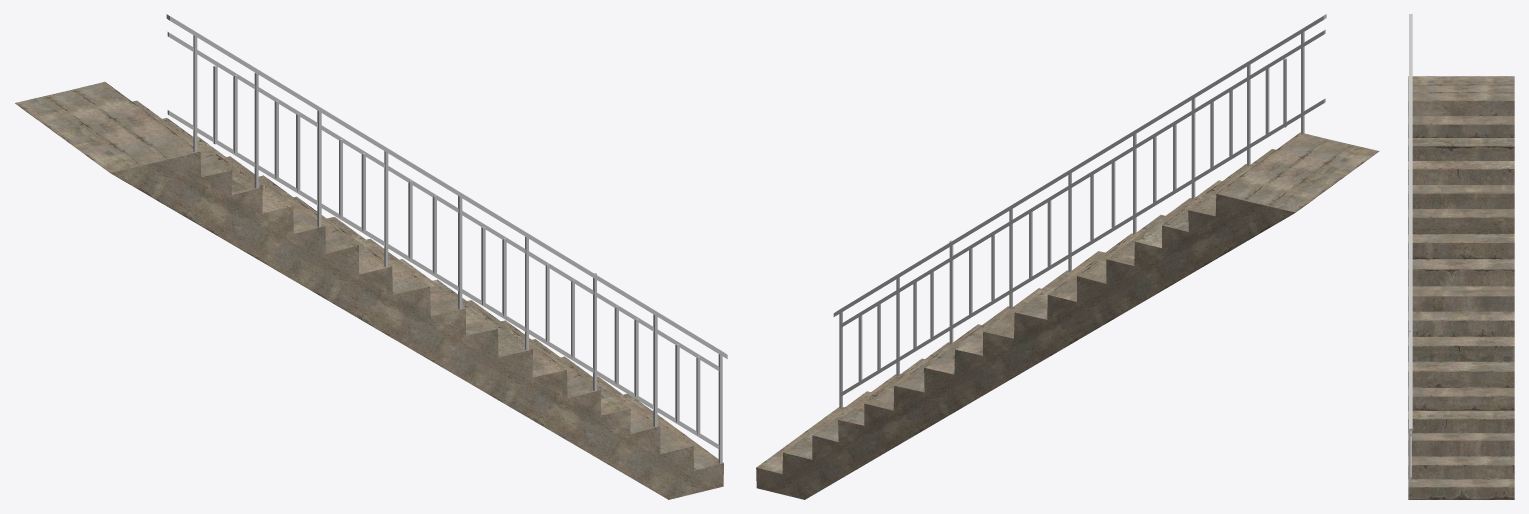
Rendered from OldHouseStaircaseExternal1.obj.
3 renders of one model, left to right at view 1: azimuth 30°, elevation 25°; view 2: azimuth 150°, elevation 25°; view 3: azimuth 270°, elevation 25°, orthographic. The views are drawn at different scales.
Visible parts, largest first — view 1: Line02, Box03, Box05, Box04; view 2: Line02, Box03, Box04, Box05; view 3: Line02, Box03.
Part boxes in pixels (x1,y1,x2,y2): Line02: (15,81,723,499); Box03: (166,14,727,358); Box05: (167,110,719,449); Box04: (167,32,719,370); Line02: (756,132,1379,499); Box03: (833,14,1326,316); Box04: (839,29,1325,328); Box05: (839,98,1325,396); Line02: (1408,76,1514,499); Box03: (1409,14,1412,431).
Bounding box in the file's own units: 4.67 × 4.37 × 1.25.
